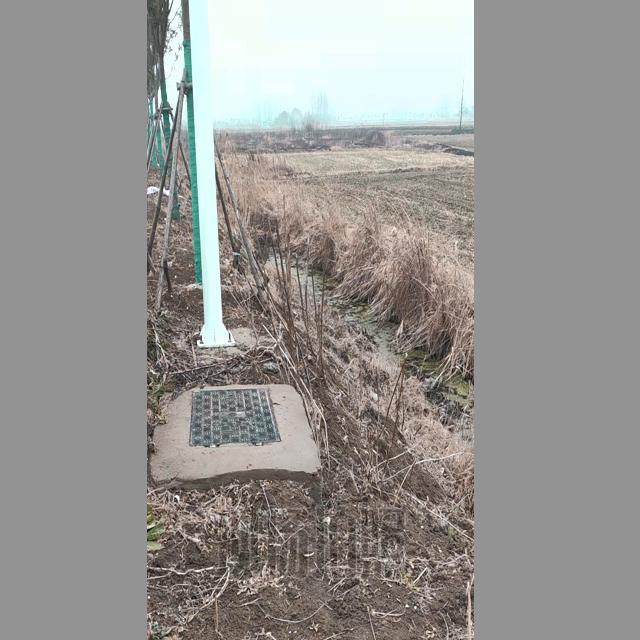good: (186, 388, 283, 449)
